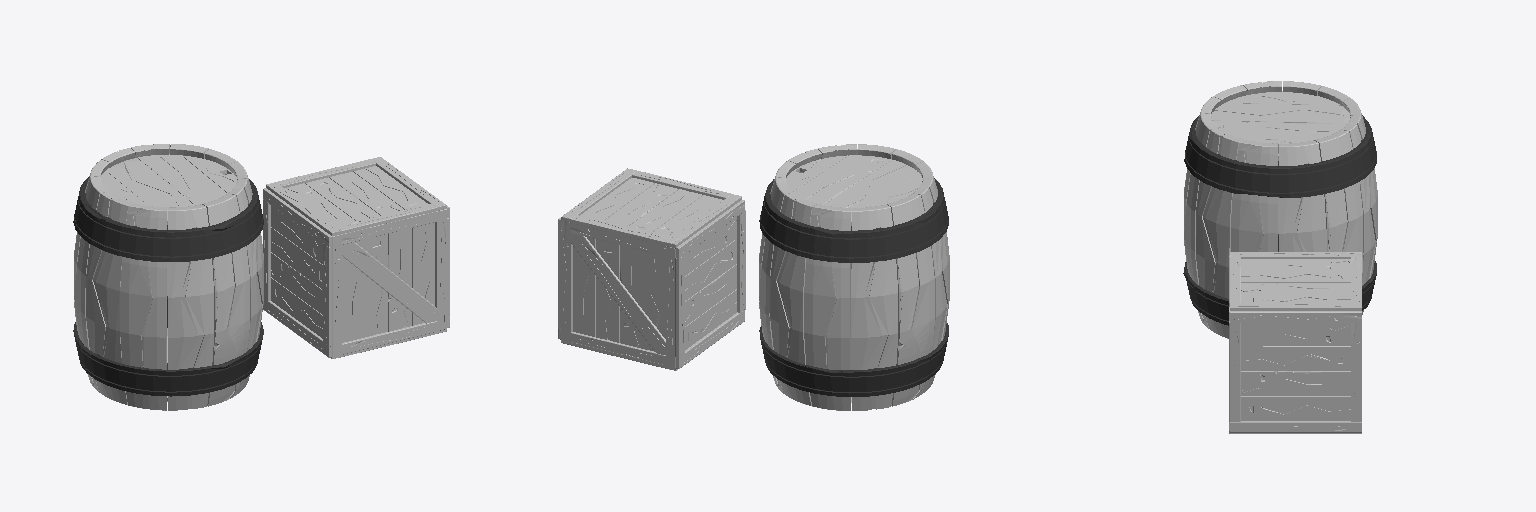
The model's file is BarrelAndBox.obj.
3 renders of one model, left to right at view 1: azimuth 30°, elevation 25°; view 2: azimuth 150°, elevation 25°; view 3: azimuth 270°, elevation 25°, orthographic.
Visible parts, largest first — view 1: attache_tonneau_msh, barrel_plank_.016, barrel_plank_.015, barrel_plank_.014, attache_tonneau.001_msh, barrel_plank_.017, planche_box.104_msh, barrel_plank_.002, barrel_plank_, barrel_plank_.013, barrel_plank_.018, planche_box.098_msh (+25 smaller); view 2: attache_tonneau_msh, barrel_plank_.008, barrel_plank_.019, barrel_plank_.018, attache_tonneau.001_msh, barrel_plank_.009, planche_box.122_msh, barrel_plank_.002, barrel_plank_.017, barrel_plank_, planche_box.114_msh, planche_box.116_msh (+24 smaller); view 3: attache_tonneau_msh, barrel_plank_.013, barrel_plank_.012, barrel_plank_.011, barrel_plank_.010, planche_box.123_msh, planche_box.124_msh, planche_box.125_msh, planche_box.113_msh, barrel_plank_, barrel_plank_.002, barrel_plank_.009 (+15 smaller).
Boxes of the visible parts, <box> form: attache_tonneau_msh: <box>73,177,263,261</box>; barrel_plank_.016: <box>120,203,166,410</box>; barrel_plank_.015: <box>168,204,213,410</box>; barrel_plank_.014: <box>202,194,249,406</box>; attache_tonneau.001_msh: <box>73,296,263,396</box>; barrel_plank_.017: <box>86,192,132,404</box>; planche_box.104_msh: <box>342,242,436,323</box>; barrel_plank_.002: <box>138,154,227,204</box>; barrel_plank_: <box>106,158,194,220</box>; barrel_plank_.013: <box>228,179,263,393</box>; barrel_plank_.018: <box>74,176,108,391</box>; planche_box.098_msh: <box>388,228,411,331</box>; attache_tonneau_msh: <box>759,178,948,262</box>; barrel_plank_.008: <box>804,204,850,410</box>; barrel_plank_.019: <box>851,205,897,410</box>; barrel_plank_.018: <box>887,194,934,406</box>; attache_tonneau.001_msh: <box>759,323,948,396</box>; barrel_plank_.009: <box>770,193,816,405</box>; planche_box.122_msh: <box>571,233,665,354</box>; barrel_plank_.002: <box>793,155,891,204</box>; barrel_plank_.017: <box>913,178,949,393</box>; barrel_plank_: <box>824,160,919,221</box>; planche_box.114_msh: <box>573,237,595,336</box>; planche_box.116_msh: <box>620,245,643,348</box>; attache_tonneau_msh: <box>1184,115,1376,197</box>; barrel_plank_.013: <box>1196,129,1243,338</box>; barrel_plank_.012: <box>1231,140,1278,251</box>; barrel_plank_.011: <box>1279,140,1326,251</box>; barrel_plank_.010: <box>1314,130,1363,256</box>; planche_box.123_msh: <box>1241,346,1350,370</box>; planche_box.124_msh: <box>1241,371,1350,395</box>; planche_box.125_msh: <box>1241,396,1350,420</box>; planche_box.113_msh: <box>1241,323,1350,345</box>; barrel_plank_: <box>1211,103,1350,122</box>; barrel_plank_.002: <box>1213,121,1346,139</box>; barrel_plank_.009: <box>1341,115,1377,314</box>.
Size of the model in its own units: 1.39 by 0.7826 by 0.7628.